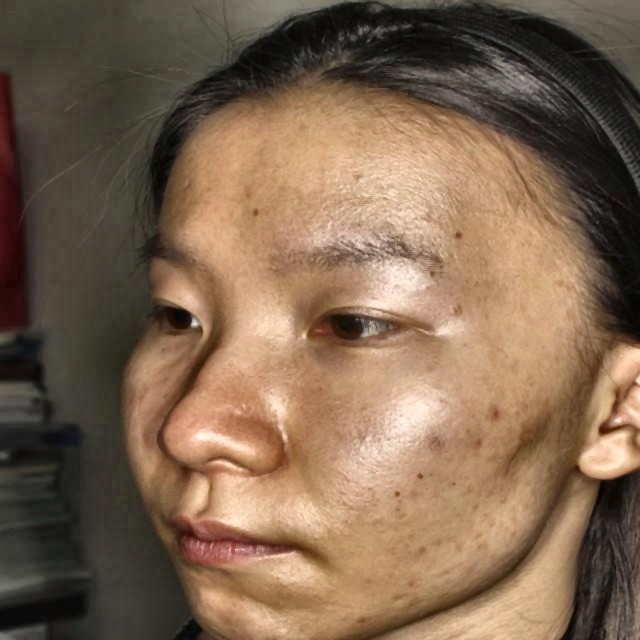comedone: (485, 394, 511, 428)
